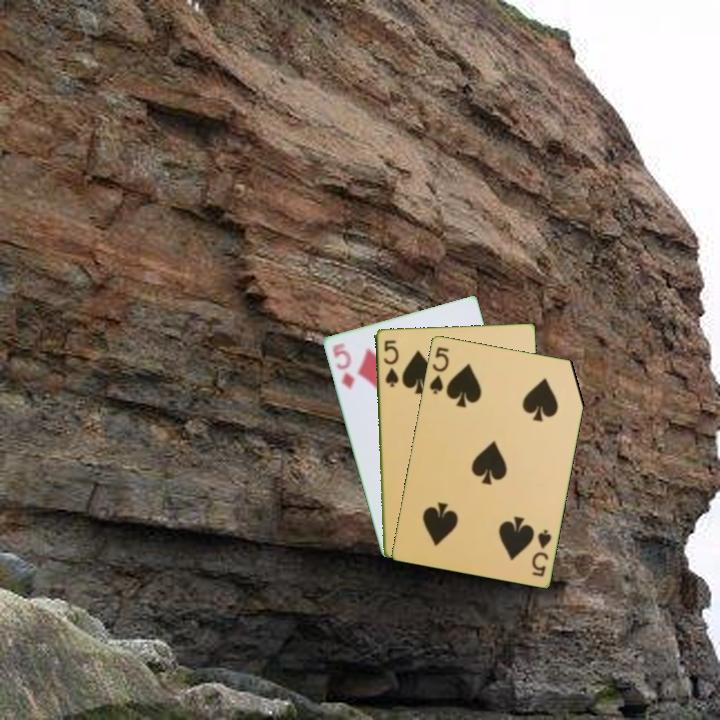5d: (329, 339, 357, 393)
5s: (426, 343, 452, 397), (528, 525, 554, 579), (380, 336, 401, 390)
